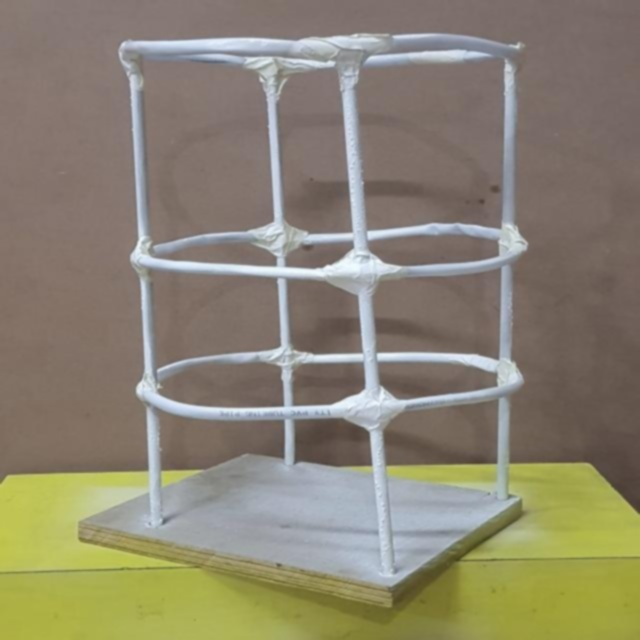silo: (89, 18, 527, 605)
